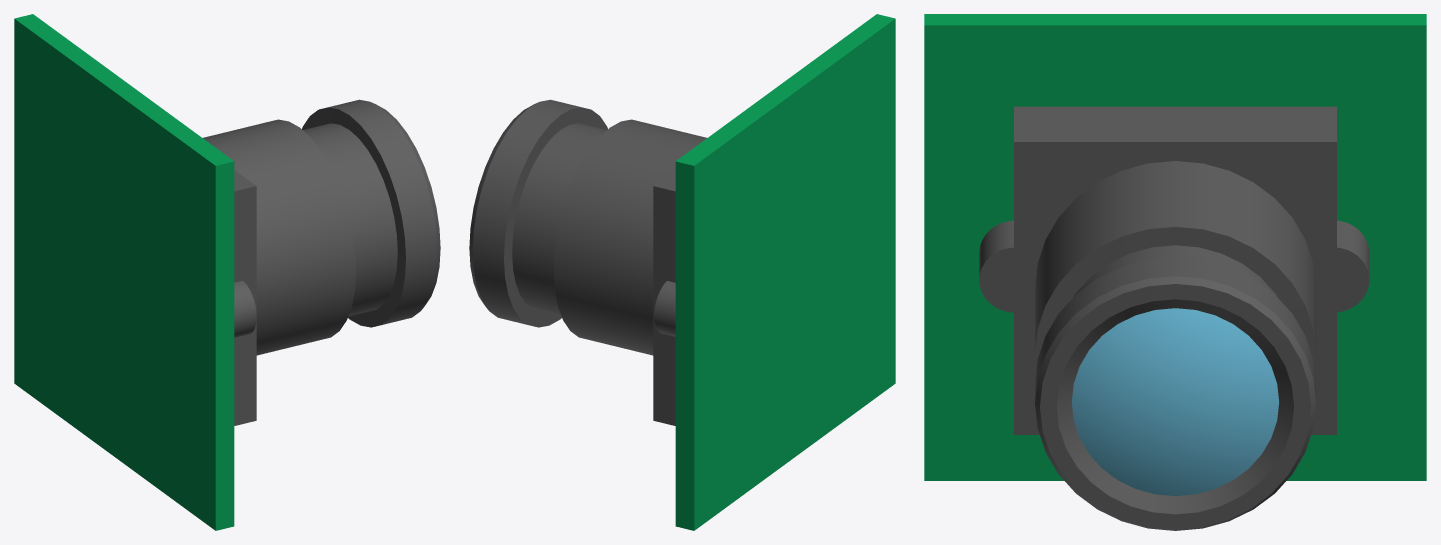
Rendered from board_camera.dae.
3 renders of one model, left to right at view 1: azimuth 30°, elevation 25°; view 2: azimuth 150°, elevation 25°; view 3: azimuth 270°, elevation 25°, orthographic. The views are drawn at different scales.
Parts seen in each view (by area): view 1: Cube_001; view 2: Cube_001; view 3: Cube_001.
Part boxes in pixels (left/top/right/bottom): Cube_001: left=14, top=14, right=440, bottom=530; Cube_001: left=469, top=14, right=895, bottom=530; Cube_001: left=924, top=14, right=1426, bottom=530.
Bounding box in the file's own units: 0.0223 × 0.028 × 0.028.
